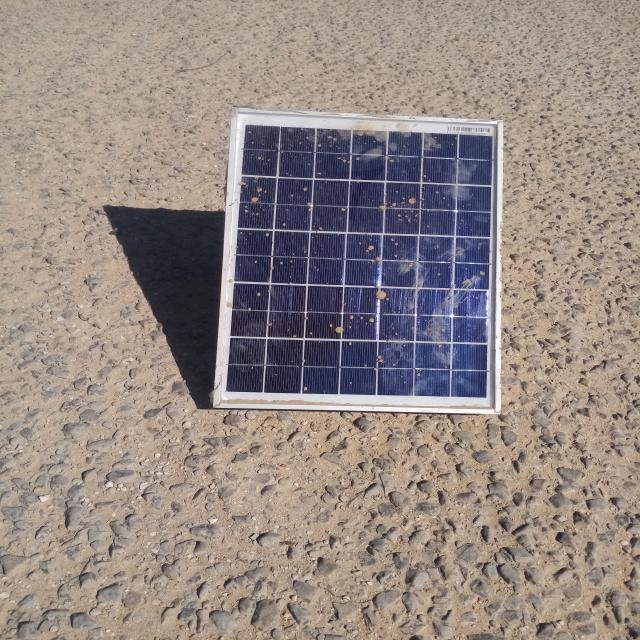faulty: (217, 109, 501, 413)
